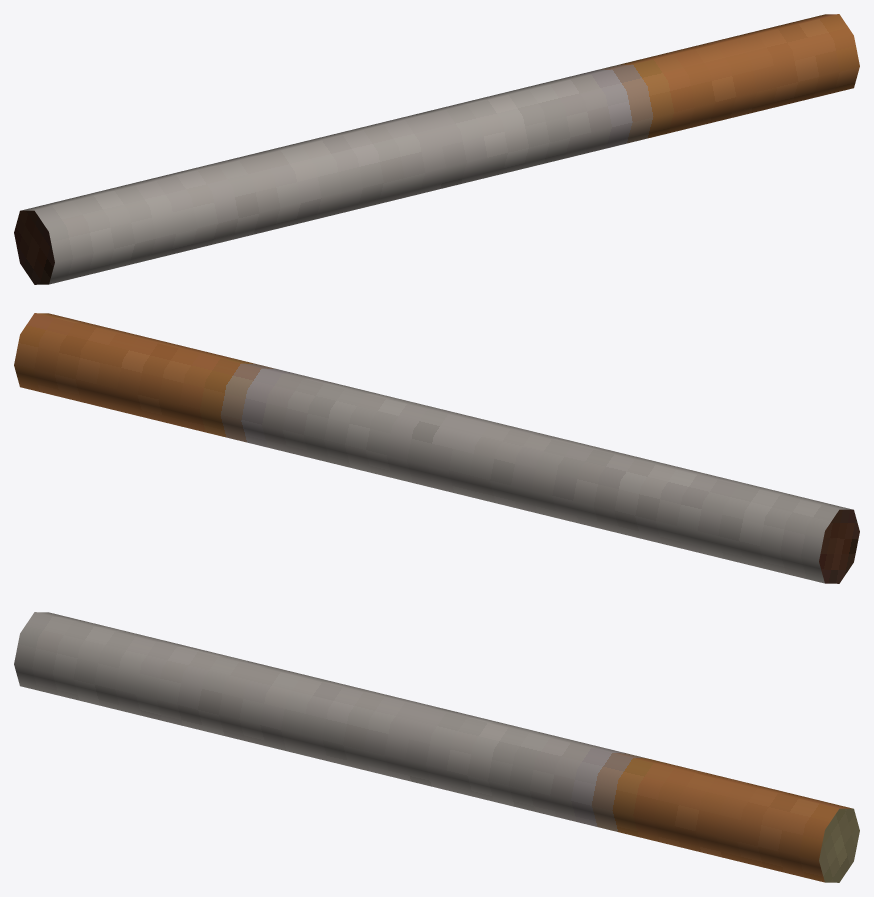
Rendered from cig_1.glb.
The picture shows the model from 3 angles, top to bottom: view 1: azimuth 30°, elevation 25°; view 2: azimuth 150°, elevation 25°; view 3: azimuth 330°, elevation 25°; orthographic projection.
Parts seen in each view (by area): view 1: cig_1; view 2: cig_1; view 3: cig_1.
Boxes of the visible parts, <box> form: cig_1: <box>14,14,859,284</box>; cig_1: <box>14,313,859,583</box>; cig_1: <box>14,612,859,882</box>.
Bounding box in the file's own units: 0.153 × 0.0135 × 0.0135.
Materials: 1 (1 with a texture image).
